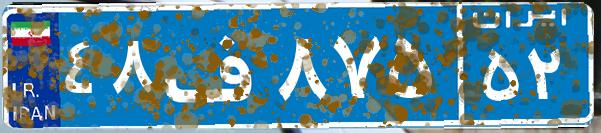2: (525, 38, 570, 115)
4: (57, 26, 110, 107)
5: (385, 28, 445, 110), (475, 38, 525, 113)
7: (330, 28, 385, 110)
8: (273, 28, 330, 110), (110, 28, 158, 105)
ف: (158, 15, 273, 115)
